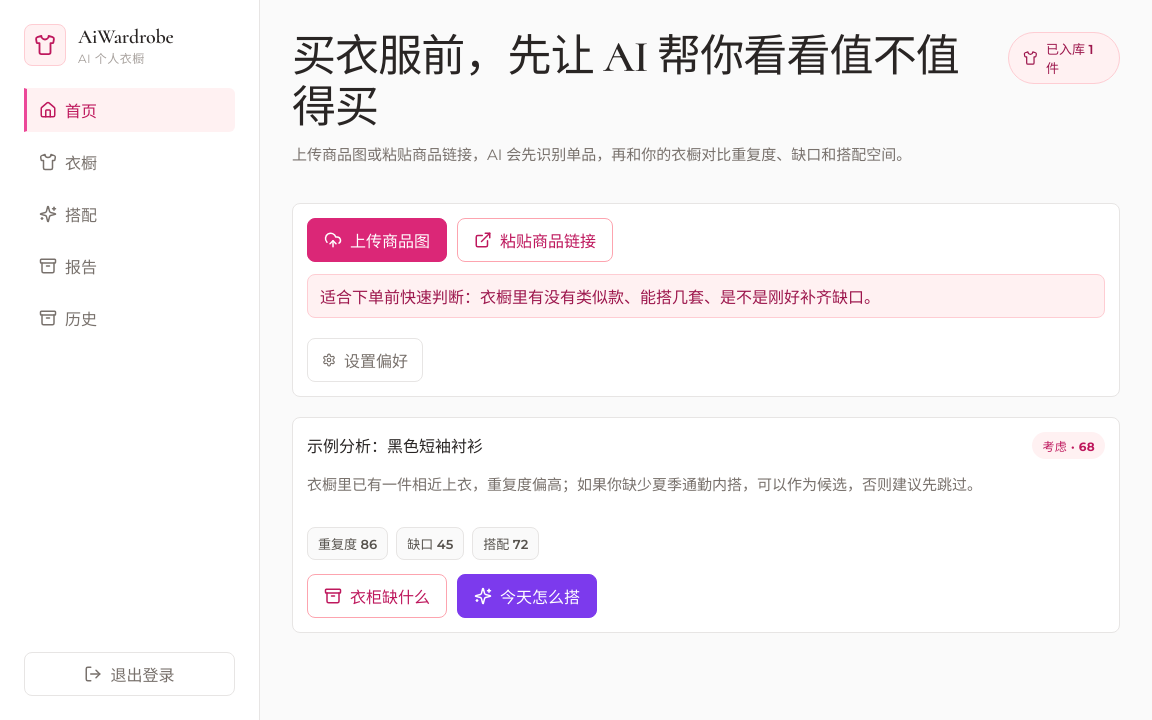
Test case: AiWardrobe app › falls back to default city weather when geolocation is unavailable
Check: the heading "买衣服前，先让 AI 帮你看看值不值得买" is shown, box [292, 32, 990, 133]
Click the button "搭配".
click(130, 214)  # box [24, 192, 235, 236]
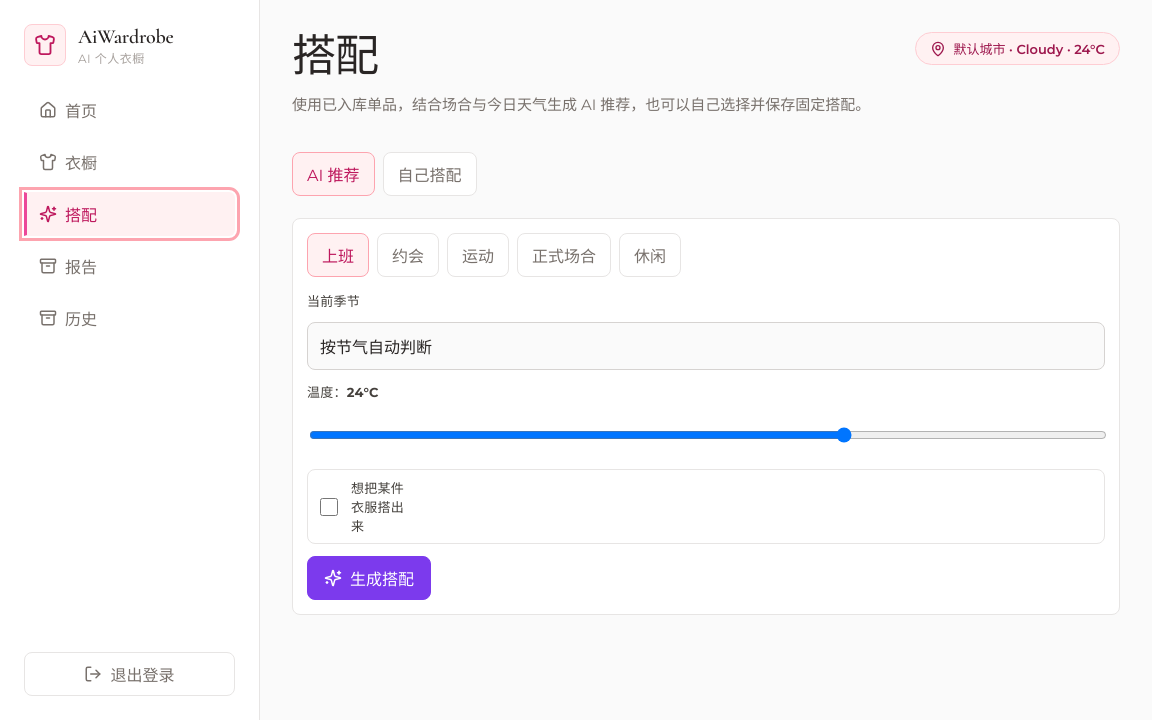
Check: the text "默认城市 · Cloudy · 24°C" is shown, box [914, 32, 1120, 65]
